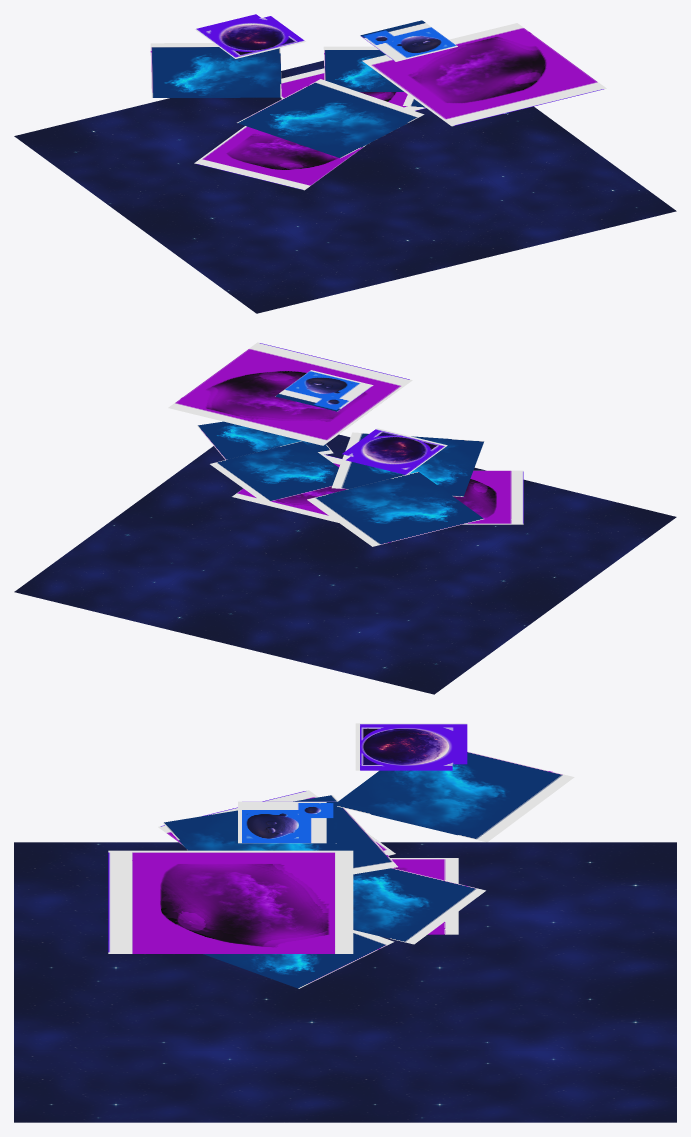
The model's file is BaackgroundElements.glb.
3 views of the same model, one above another, from view 1: azimuth 30°, elevation 25°; view 2: azimuth 150°, elevation 25°; view 3: azimuth 270°, elevation 25° (orthographic). The views are drawn at different scales.
Parts seen in each view (by area): view 1: bg, nebula2.001, nebula1.002, nebula1.001, nebula2.002, planet.001, nebula1, beaverPlanet, nebula2; view 2: bg, nebula2.001, nebula1.001, nebula1, nebula1.002, nebula2.002, planet.001, nebula1.003, beaverPlanet, nebula2; view 3: bg, nebula2.001, nebula1.001, nebula1, planet.001, nebula1.002, beaverPlanet, nebula1.003, nebula2, nebula2.002.
Boxes of the visible parts, bbox=[...] form: bg: bbox=[14, 60, 676, 313]; nebula2.001: bbox=[362, 23, 606, 126]; nebula1.002: bbox=[237, 79, 424, 158]; nebula1.001: bbox=[150, 43, 281, 97]; nebula2.002: bbox=[194, 126, 365, 190]; planet.001: bbox=[195, 14, 305, 58]; nebula1: bbox=[323, 46, 403, 91]; beaverPlanet: bbox=[360, 20, 457, 61]; nebula2: bbox=[281, 68, 426, 110]; bg: bbox=[14, 434, 676, 694]; nebula2.001: bbox=[168, 342, 412, 445]; nebula1.001: bbox=[307, 472, 483, 546]; nebula1: bbox=[210, 441, 338, 502]; nebula1.002: bbox=[331, 432, 484, 496]; nebula2.002: bbox=[453, 470, 523, 524]; planet.001: bbox=[342, 428, 447, 475]; nebula1.003: bbox=[197, 421, 333, 459]; beaverPlanet: bbox=[275, 370, 373, 411]; nebula2: bbox=[232, 454, 346, 522]; bg: bbox=[14, 842, 676, 1122]; nebula2.001: bbox=[108, 850, 353, 953]; nebula1.001: bbox=[337, 751, 574, 842]; nebula1: bbox=[353, 868, 485, 944]; planet.001: bbox=[355, 723, 467, 770]; nebula1.002: bbox=[163, 795, 397, 874]; beaverPlanet: bbox=[238, 801, 336, 843]; nebula1.003: bbox=[203, 930, 394, 988]; nebula2: bbox=[390, 858, 458, 934]; nebula2.002: bbox=[158, 790, 395, 855].
Bounding box in the file's own units: 2004 × 628 × 2004.
Materials: 2 (2 with a texture image).
